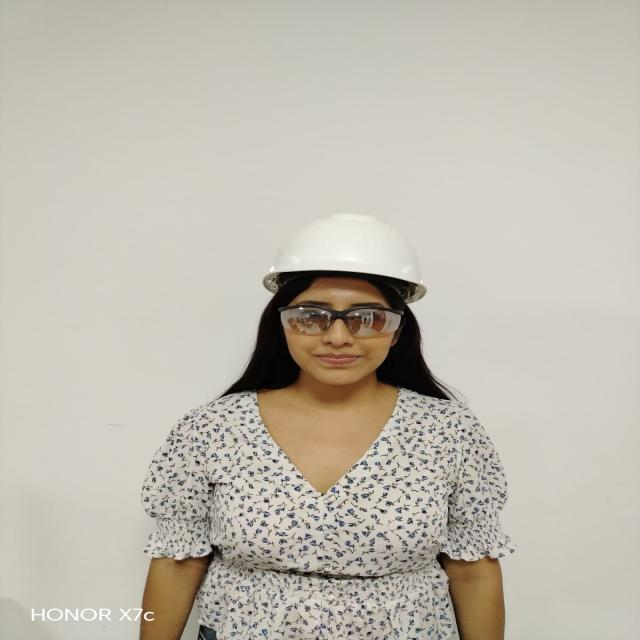helmet: (263, 214, 427, 304)
protective_glasses: (278, 302, 405, 338)
